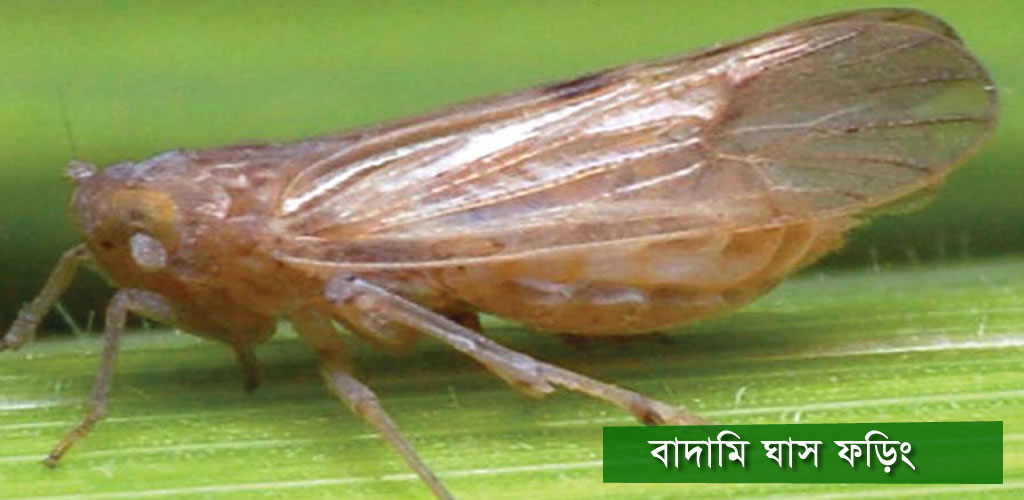Brown_hopper: (6, 2, 1017, 423)
